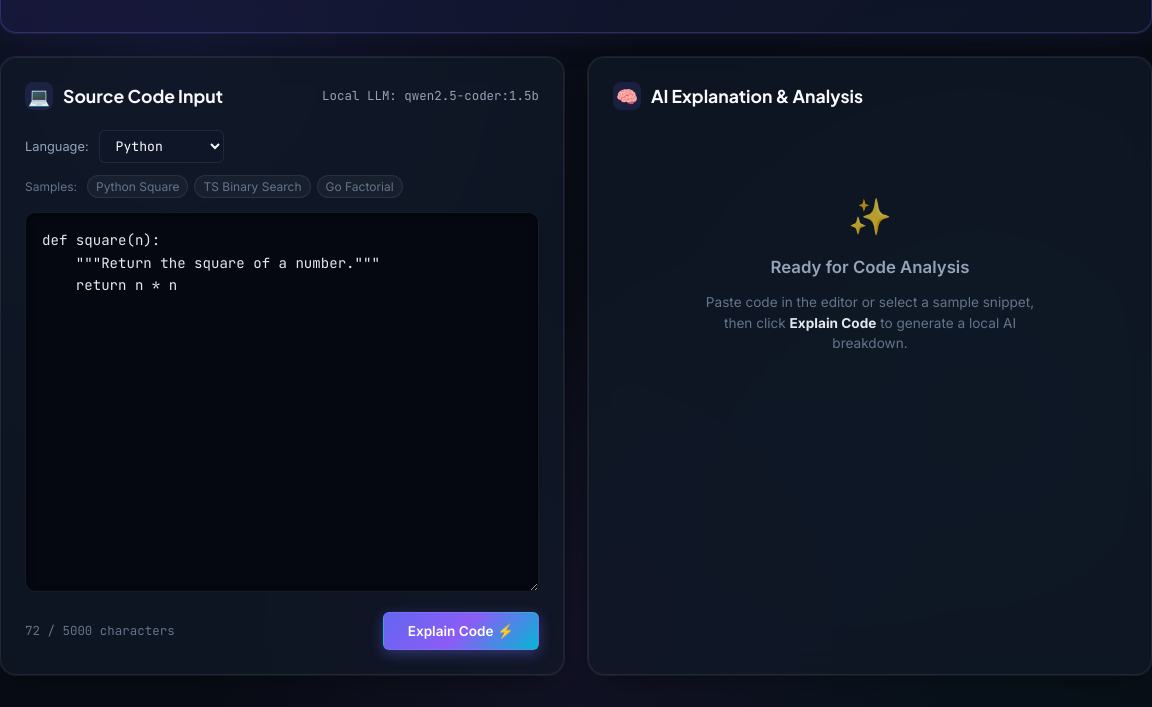
Scenario: CodeExplainerView Feature Integration › submits code and renders structured explanation on success
The image size is (1152, 707).
(page scrolled)
Click the button named "Explain Code with AI" at (461, 631), box top-left (383, 612), bottom-right (539, 650)
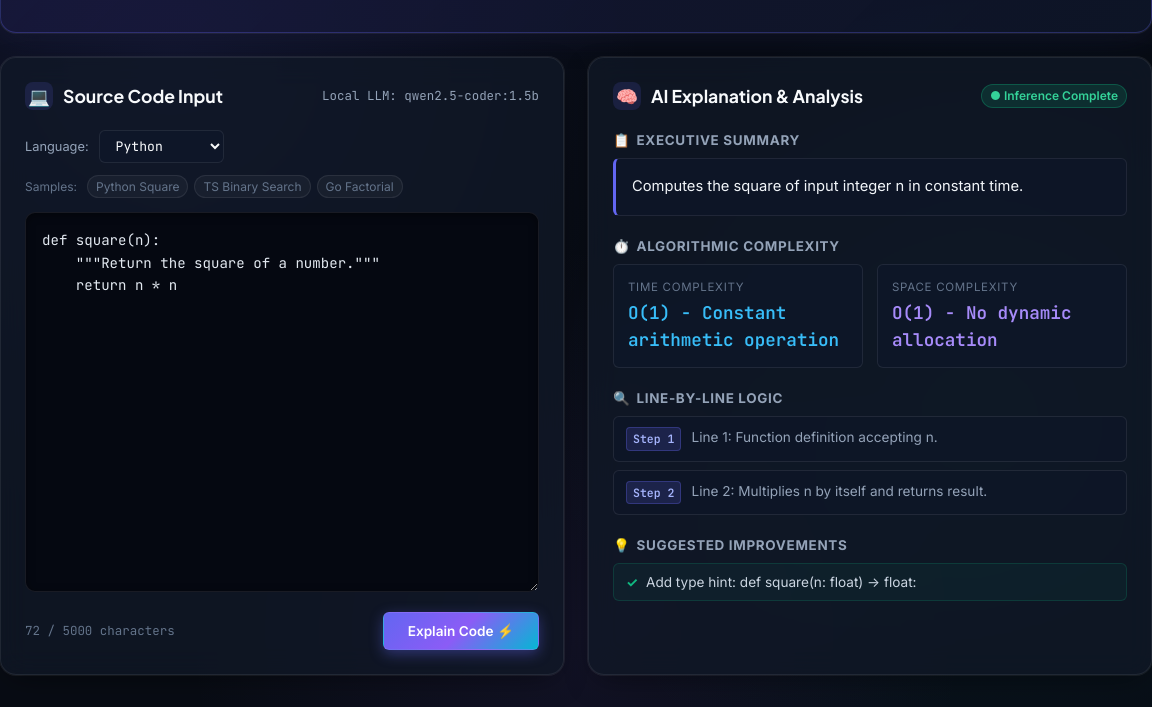
Expected: the text "● Inference Complete" is shown, top-left (981, 84), bottom-right (1127, 108)
Expected: the text "Computes the square of input integer n in constant time." is shown, top-left (613, 158), bottom-right (1127, 216)
Expected: the text "O(1) - Constant arithmetic operation" is shown, top-left (628, 300), bottom-right (848, 353)
